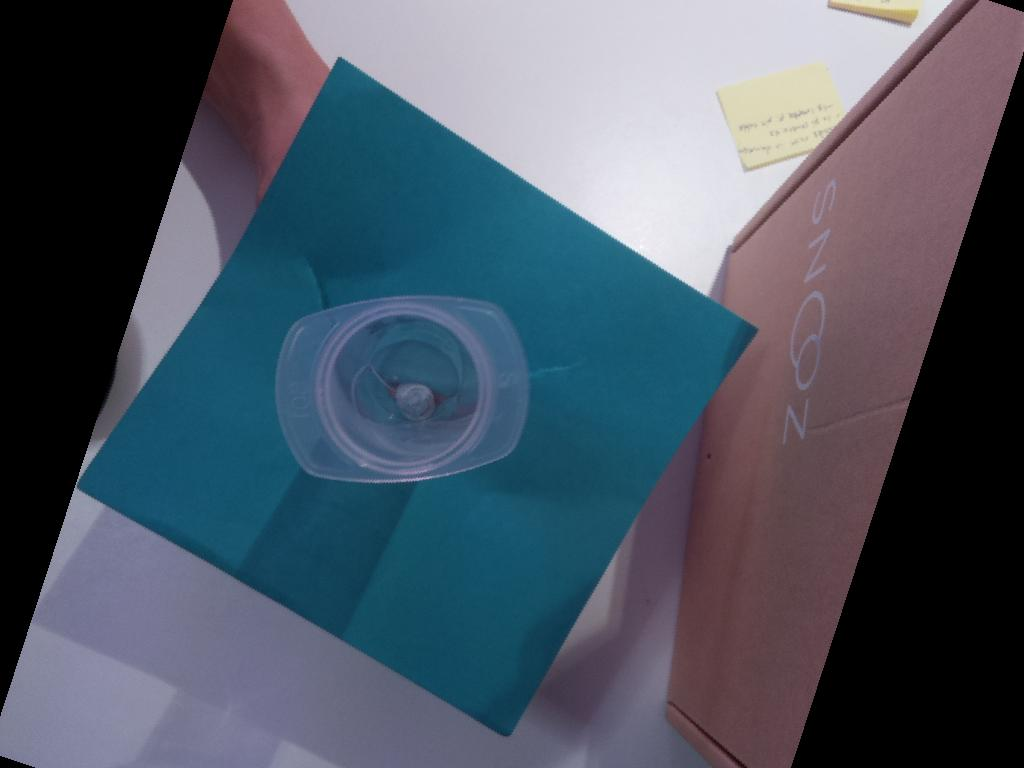clean: (272, 294, 531, 487)
